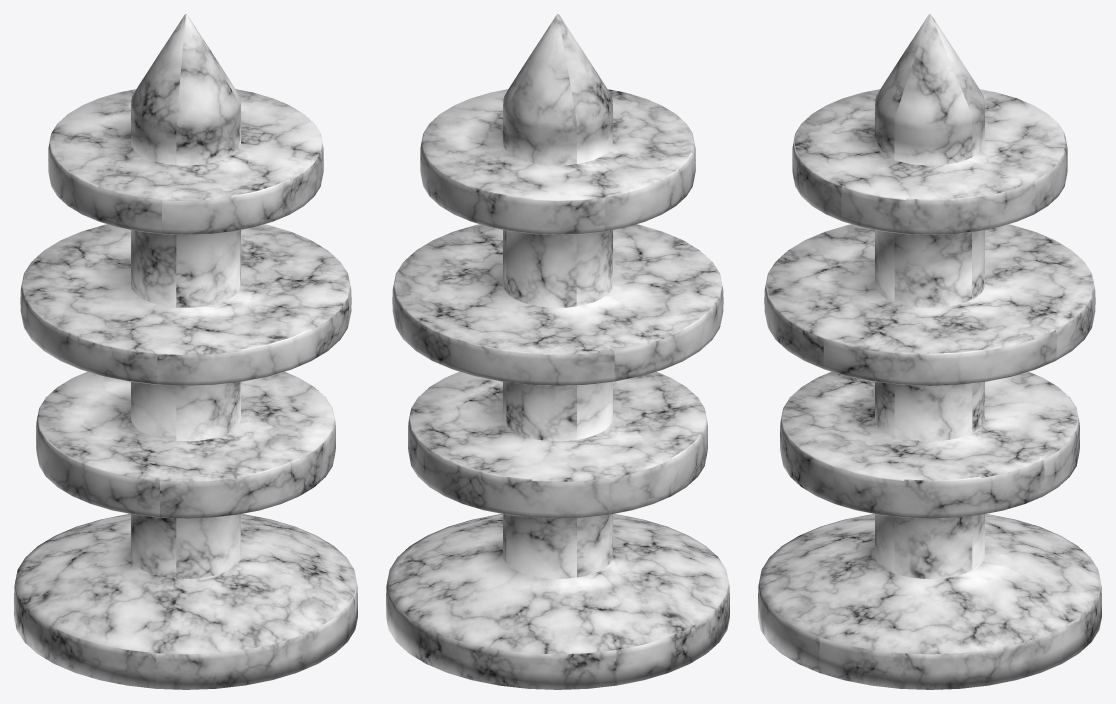
Rendered from king.obj.
3 renders of one model, left to right at view 1: azimuth 30°, elevation 25°; view 2: azimuth 150°, elevation 25°; view 3: azimuth 270°, elevation 25°, orthographic.
Parts seen in each view (by area): view 1: king; view 2: king; view 3: king.
Part boxes in pixels (x1,y1,x2,y2): king: (14, 14, 357, 689); king: (386, 14, 729, 689); king: (758, 14, 1101, 689).
Size of the model in its own units: 23.64 by 45.71 by 23.64.
